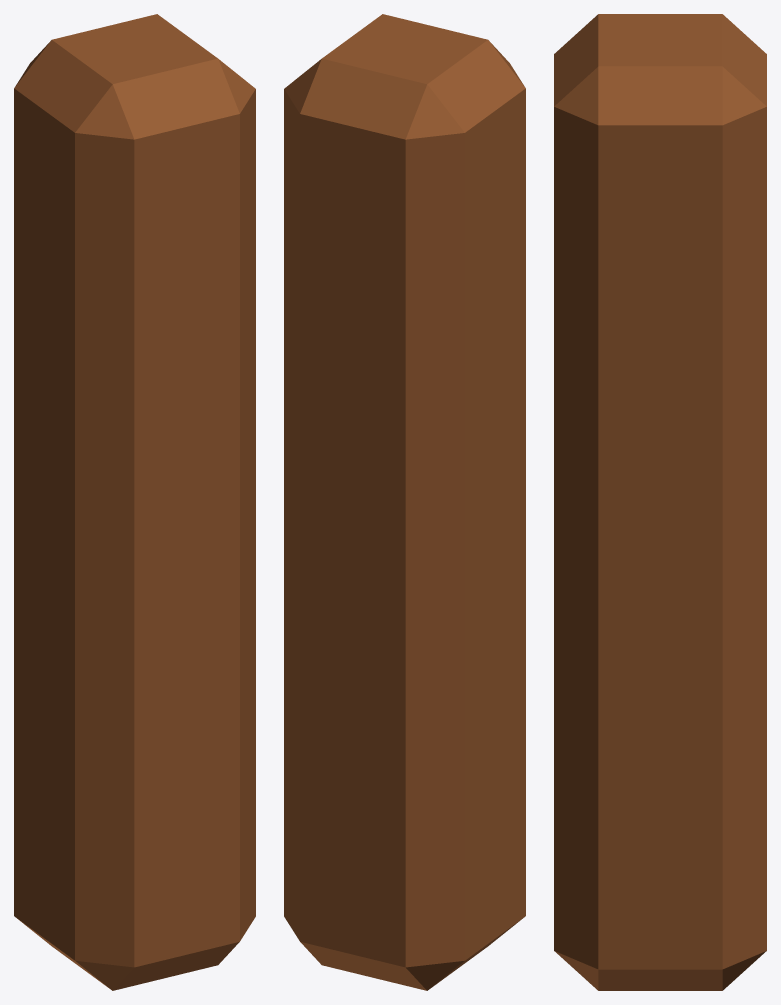
File: cerca_poste.glb
3 views of the same model, side by side, from view 1: azimuth 30°, elevation 25°; view 2: azimuth 150°, elevation 25°; view 3: azimuth 270°, elevation 25° (orthographic).
Parts seen in each view (by area): view 1: cerca_poste; view 2: cerca_poste; view 3: cerca_poste.
Part boxes in pixels (<box>): cerca_poste: <box>14,14,255,990</box>; cerca_poste: <box>284,14,525,990</box>; cerca_poste: <box>554,14,766,990</box>.
Bounding box in the file's own units: 0.24 × 1.15 × 0.24.
